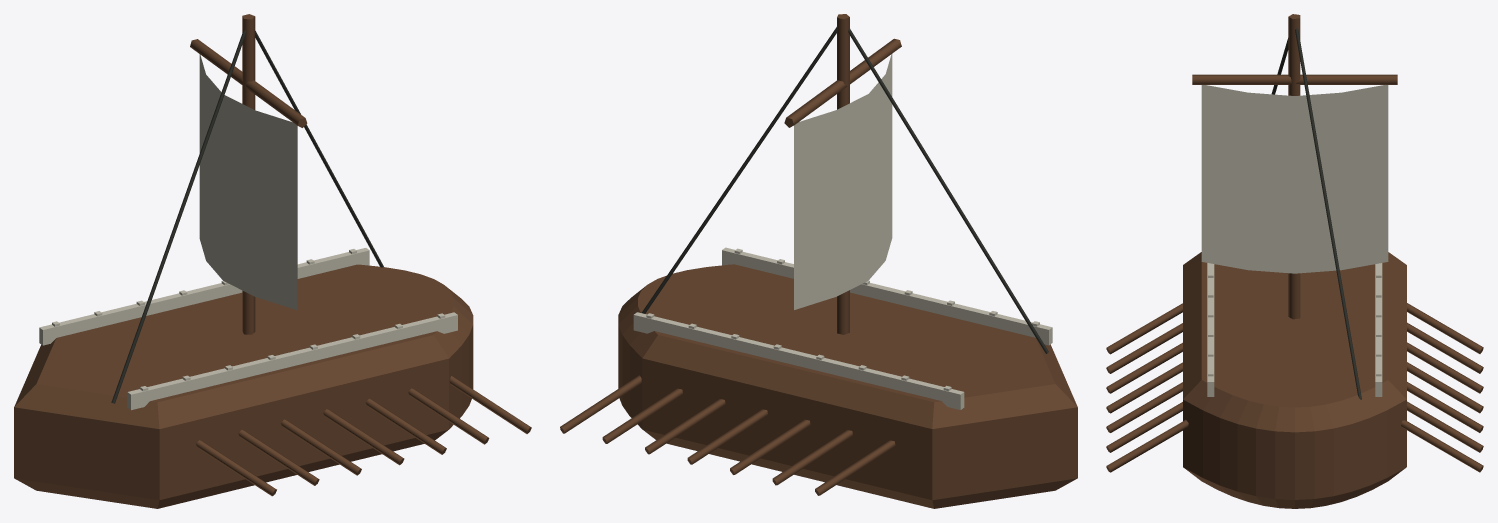
File: custom-vehicle-kadirga.glb
3 renders of one model, left to right at view 1: azimuth 30°, elevation 25°; view 2: azimuth 150°, elevation 25°; view 3: azimuth 270°, elevation 25°, orthographic. The views are drawn at different scales.
Visible parts, largest first — view 1: custom-vehicle-kadirga; view 2: custom-vehicle-kadirga; view 3: custom-vehicle-kadirga.
Boxes of the visible parts, box(x1,y1,x2,y2) form: custom-vehicle-kadirga: box(14, 14, 531, 508); custom-vehicle-kadirga: box(560, 14, 1077, 508); custom-vehicle-kadirga: box(1106, 14, 1483, 508).
Bounding box in the file's own units: 1 × 0.9024 × 0.7688.
